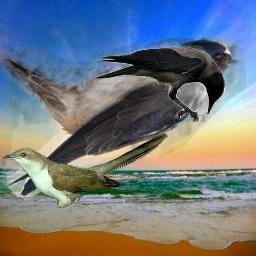Crow: (93, 45, 225, 122)
Cuckoo: (2, 132, 168, 208)
Swallow: (0, 38, 246, 197)
